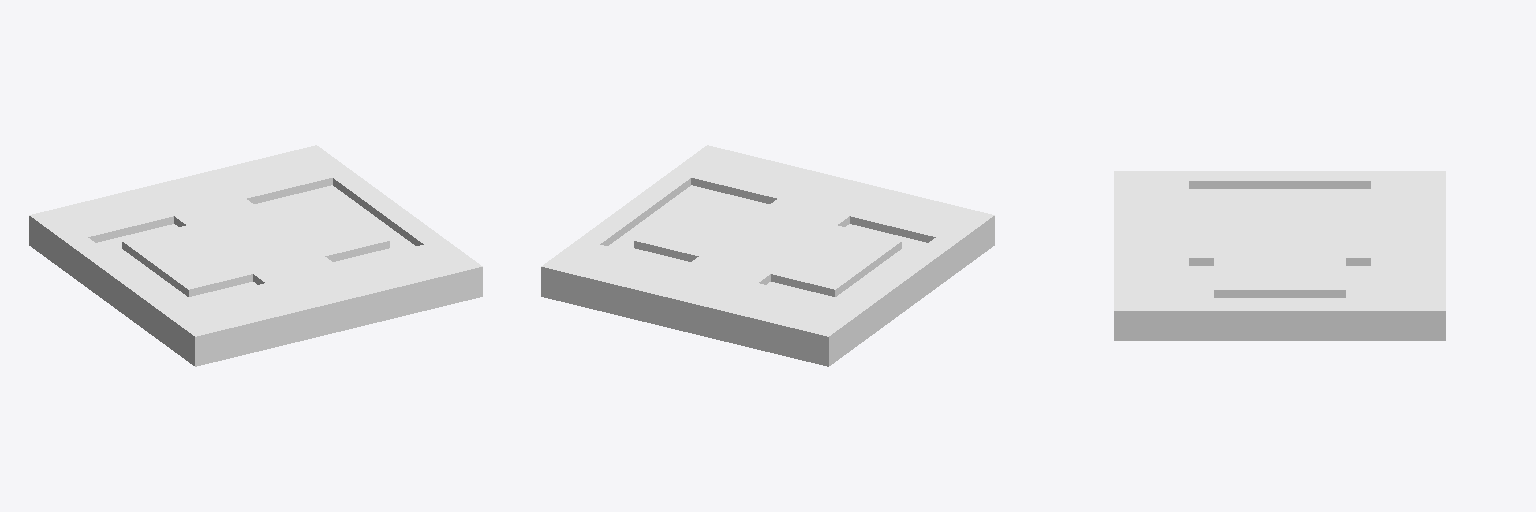
The model's file is SHP1.vox.obj.
The picture shows the model from 3 angles: view 1: azimuth 30°, elevation 25°; view 2: azimuth 150°, elevation 25°; view 3: azimuth 270°, elevation 25°; orthographic projection.
Parts seen in each view (by area): view 1: object 1; view 2: object 1; view 3: object 1.
Boxes of the visible parts, box(x1,y1,x2,y2) form: object 1: box(29, 145, 482, 366); object 1: box(541, 145, 994, 366); object 1: box(1114, 171, 1445, 340).
Size of the model in its own units: 4 by 0.4 by 4.